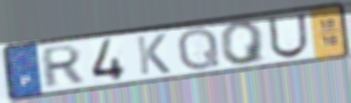4: (90, 36, 128, 84)
K: (134, 31, 173, 77)
Q: (218, 19, 269, 67), (176, 26, 223, 73)
R: (41, 43, 85, 90)
U: (266, 12, 310, 60)
